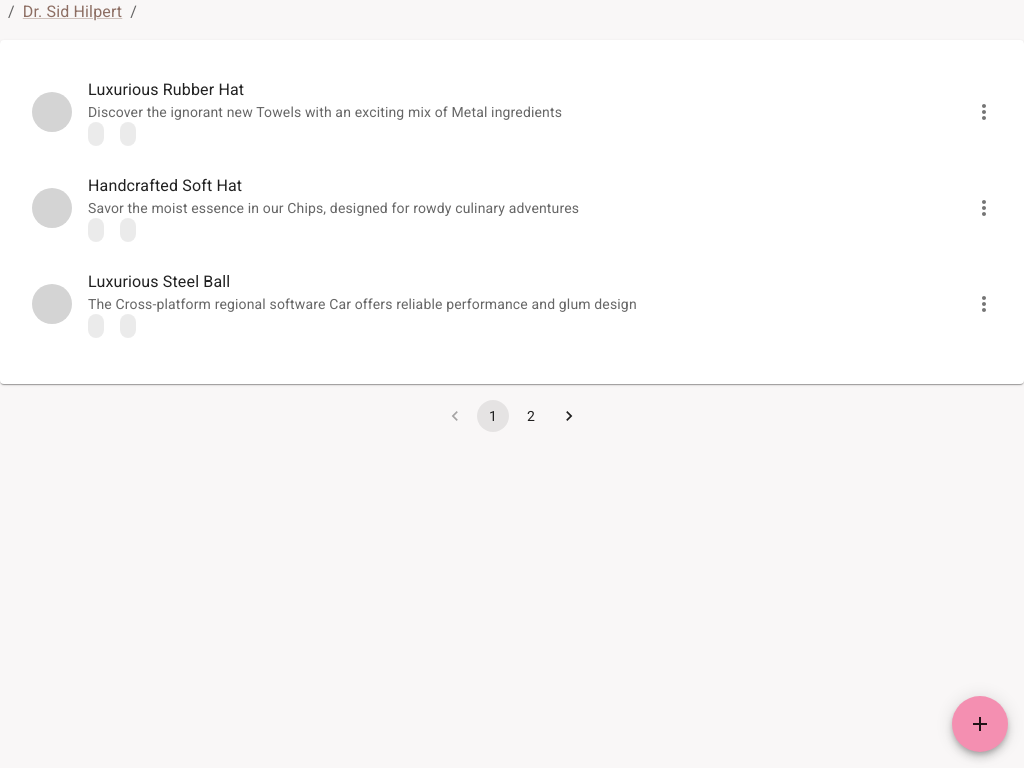
Test: With the logged-in user › With items › Opening a context menu › Marking an item as given › When the API call fails › Shows a notification indicating that marking as given failed
Expected: the number of list items with test id "user-items__item" is 3, [16, 64, 1008, 160]; [16, 160, 1008, 256]; [16, 256, 1008, 352]
Click the 1st button with test id "user-items__item__context-menu".
click(984, 112)  # box [964, 92, 1004, 132]
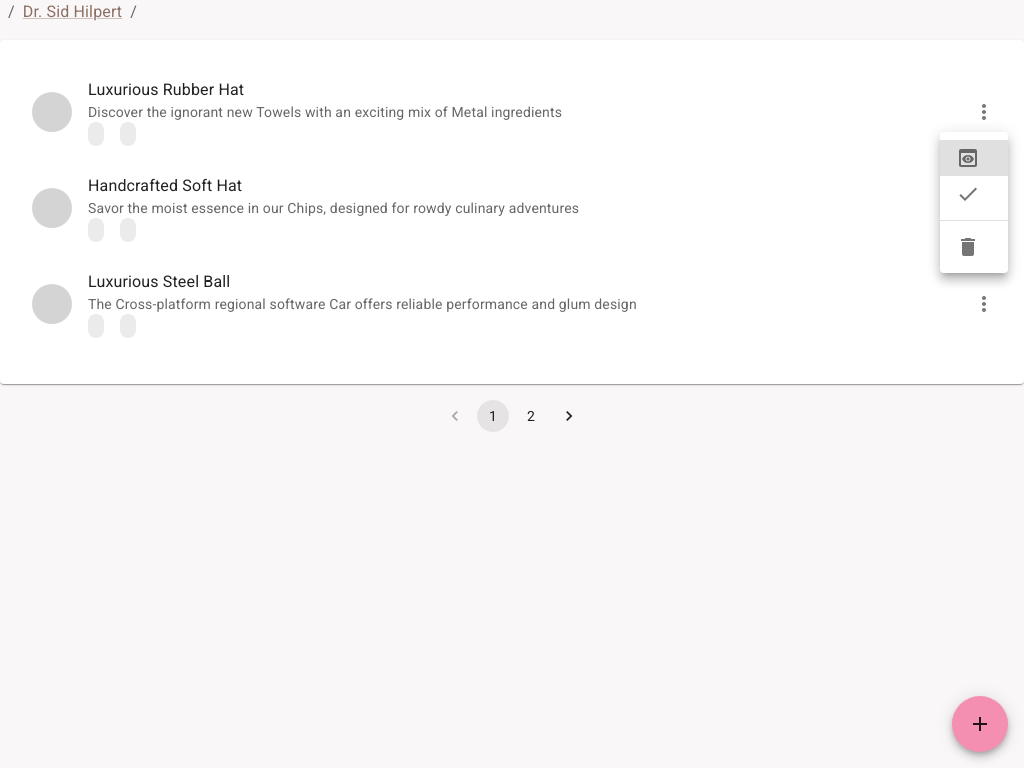
Click the menu item with test id "user-items__item__mark-as-given".
click(968, 194)  # box [956, 182, 980, 206]
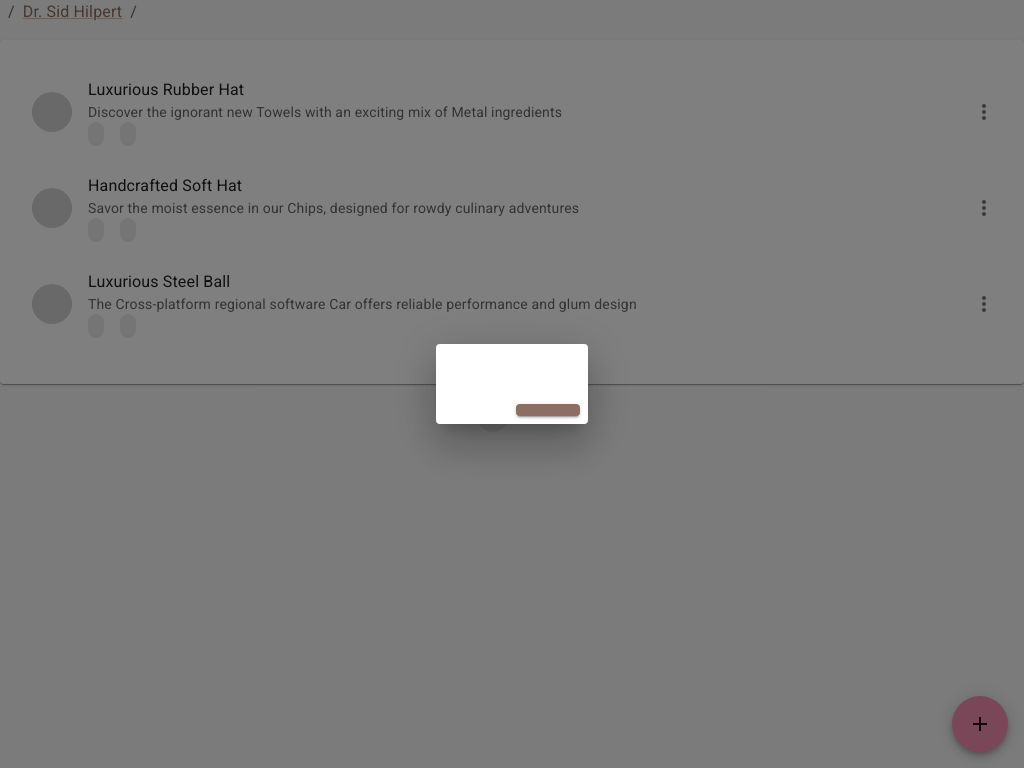
Click the button with test id "item__mark-as-given".
click(548, 410)  # box [516, 404, 580, 416]
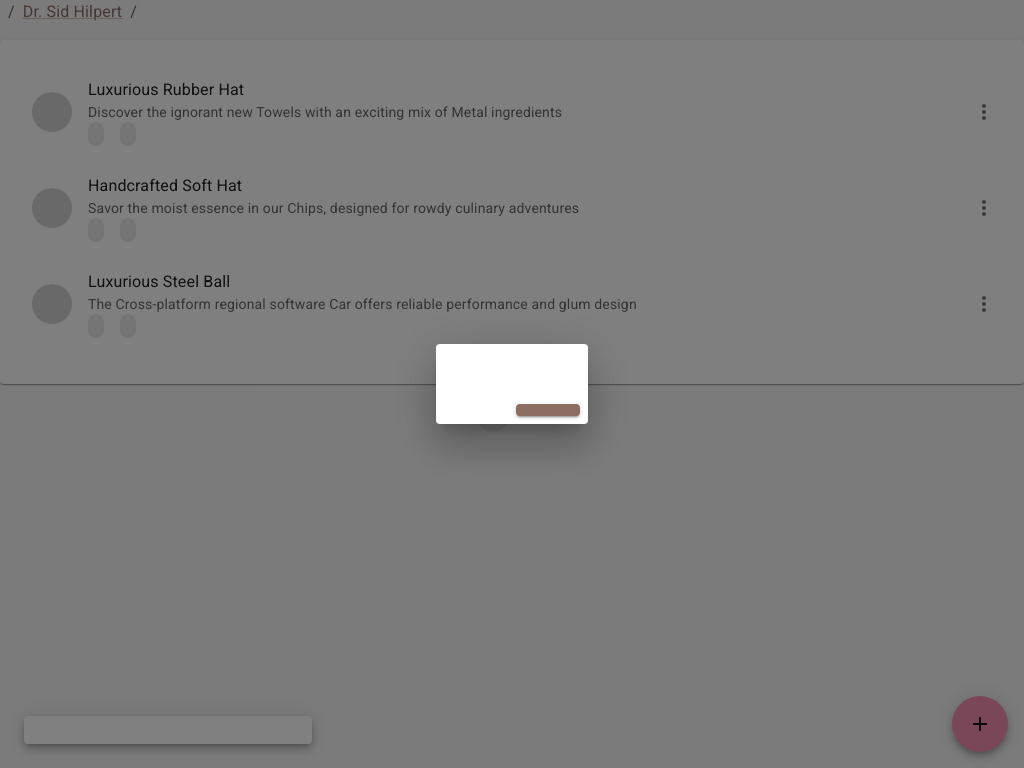
Expected: the element with test id "notifications__notification" is shown, [24, 716, 312, 744]
